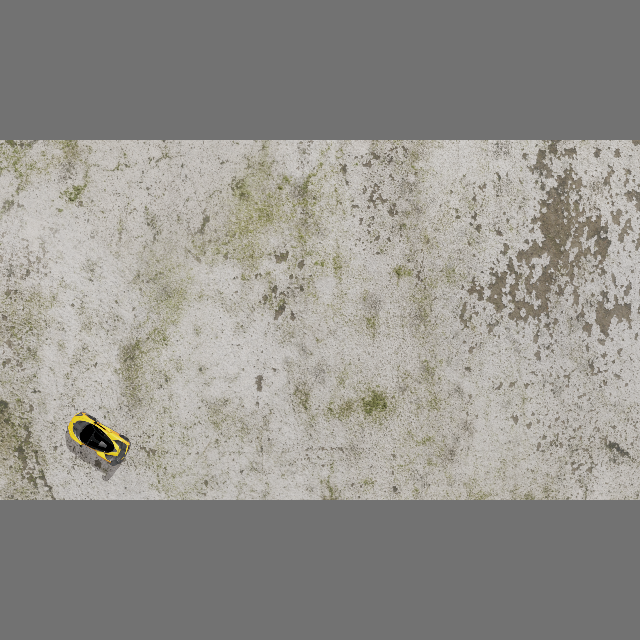car: (57, 407, 136, 471)
